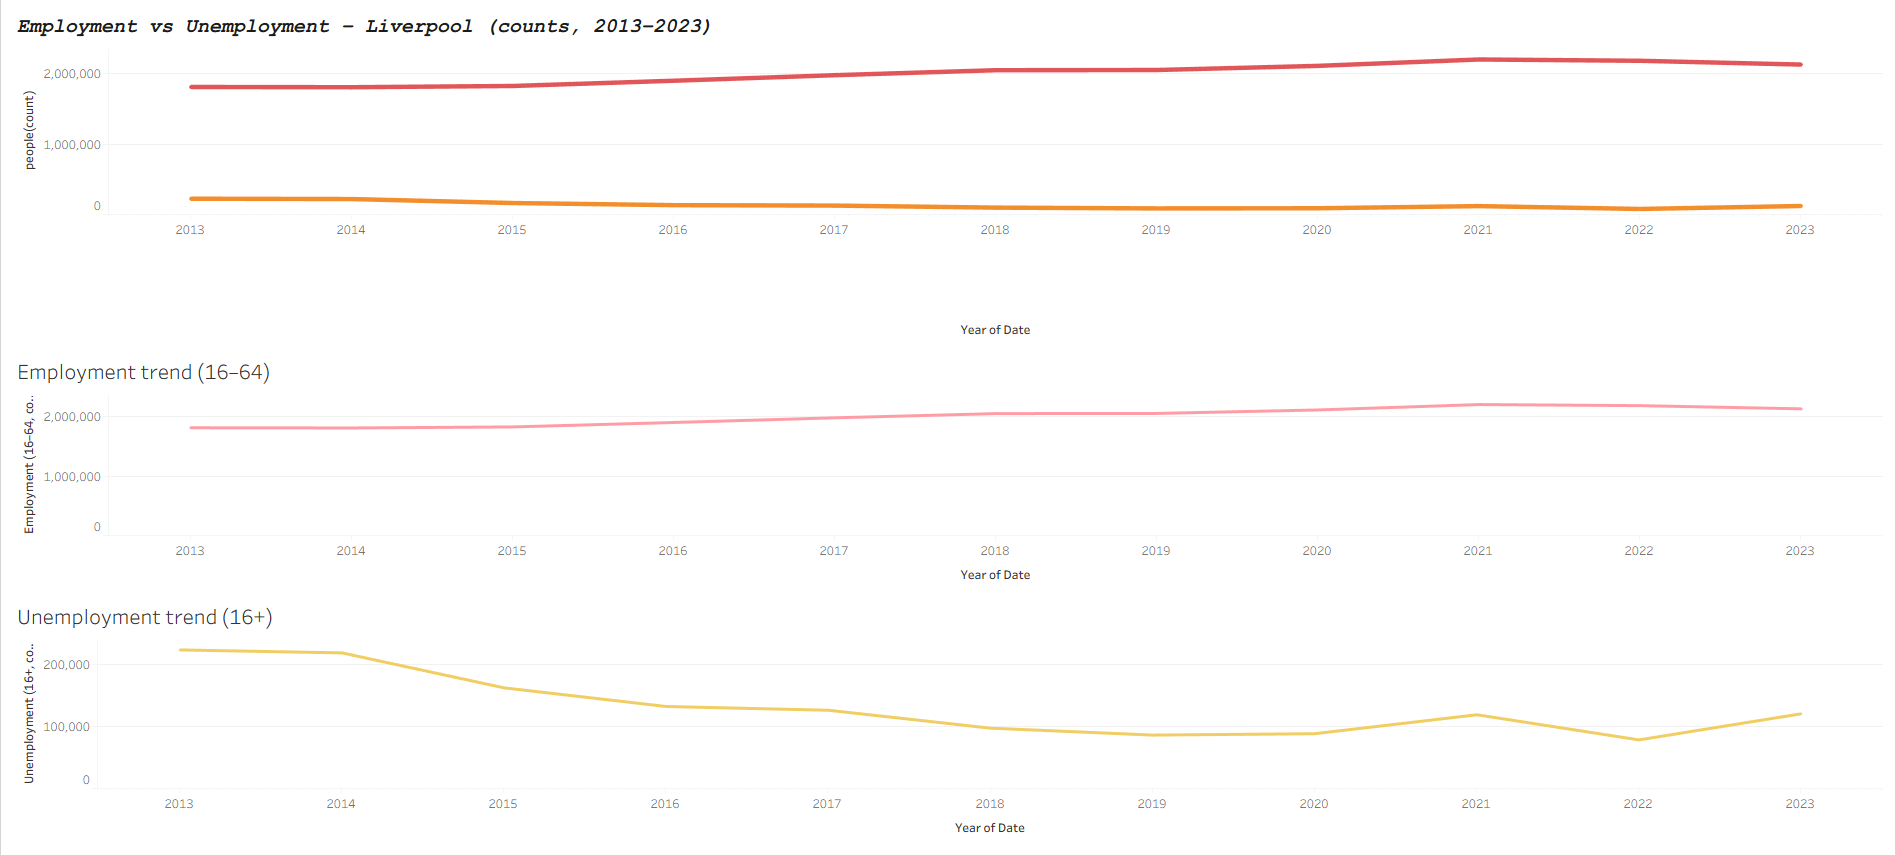

What the dashboard file says about the page in this screenshot:
{"tool":"tableau","page":{"name":"Dashboard 1","canvas":[1000,1000],"units":"permille","ordinal":0},"visuals":[{"type":"worksheet","title":"Employment vs Unemployment – Liverpool (counts, 2012–2024)","mark":"Line","cols":["Date"],"box":[6.1,9.3,987.9,400]},{"type":"worksheet","title":"Employment trend (16–64)","mark":"Line","rows":["Employment rate - aged 16-64"],"cols":["Date"],"box":[6.1,409.3,987.9,286.1]},{"type":"worksheet","title":"Unemployment trend (16+)","mark":"Line","rows":["Unemployment rate - aged 16+"],"cols":["Date"],"box":[6.1,695.4,987.9,295.4]}]}

Visuals, with their boxes on the dashboard's canvas, which has no fixed pixel size, in thousandths of its width and height (x1, y1, x2, y2). These are canvas units, not pixel positions in the 1895x855 screenshot, which may show the page scaled, cropped or inside an application window:
"Employment vs Unemployment – Liverpool (counts, 2012–2024)" worksheet (Line marks): 6,9,994,409
"Employment trend (16–64)" worksheet (Line marks): 6,409,994,695
"Unemployment trend (16+)" worksheet (Line marks): 6,695,994,991
